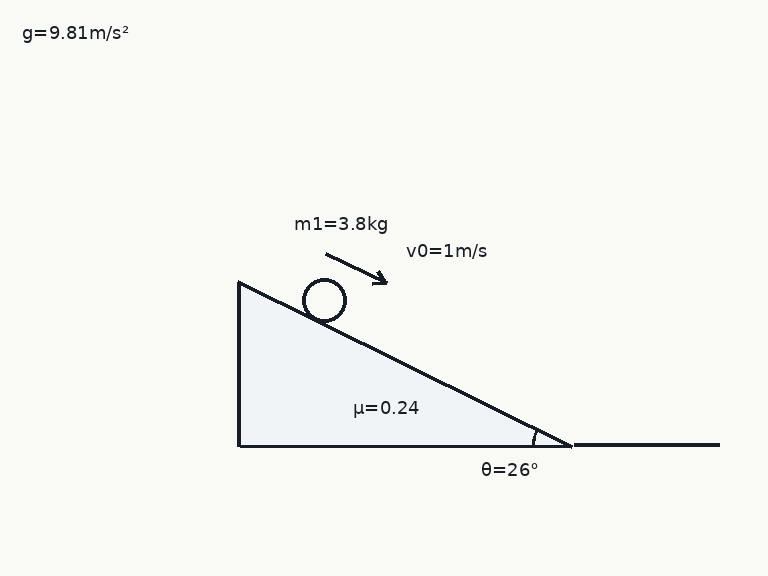ball: (300, 276, 348, 324)
ramp: (237, 281, 575, 448)
